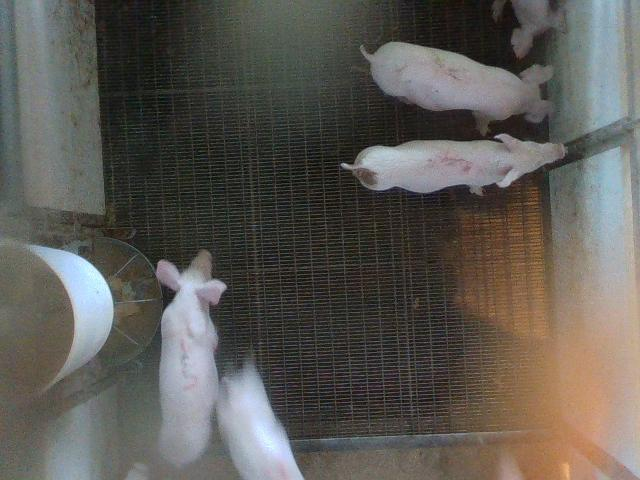pig-3: (156, 250, 226, 466)
pig-5: (341, 134, 565, 194)
